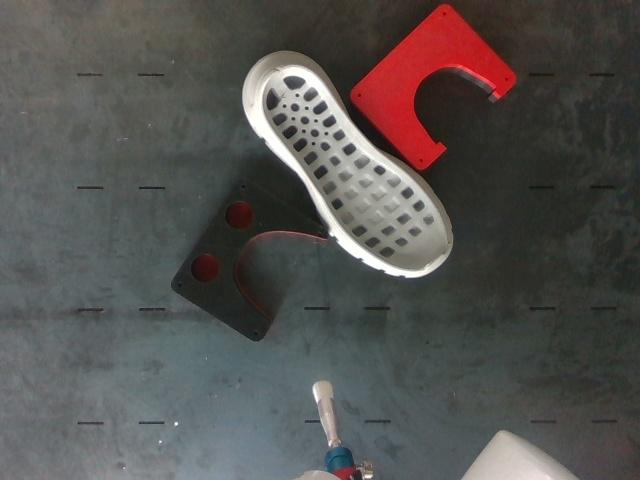shoes: (262, 65, 447, 271)
